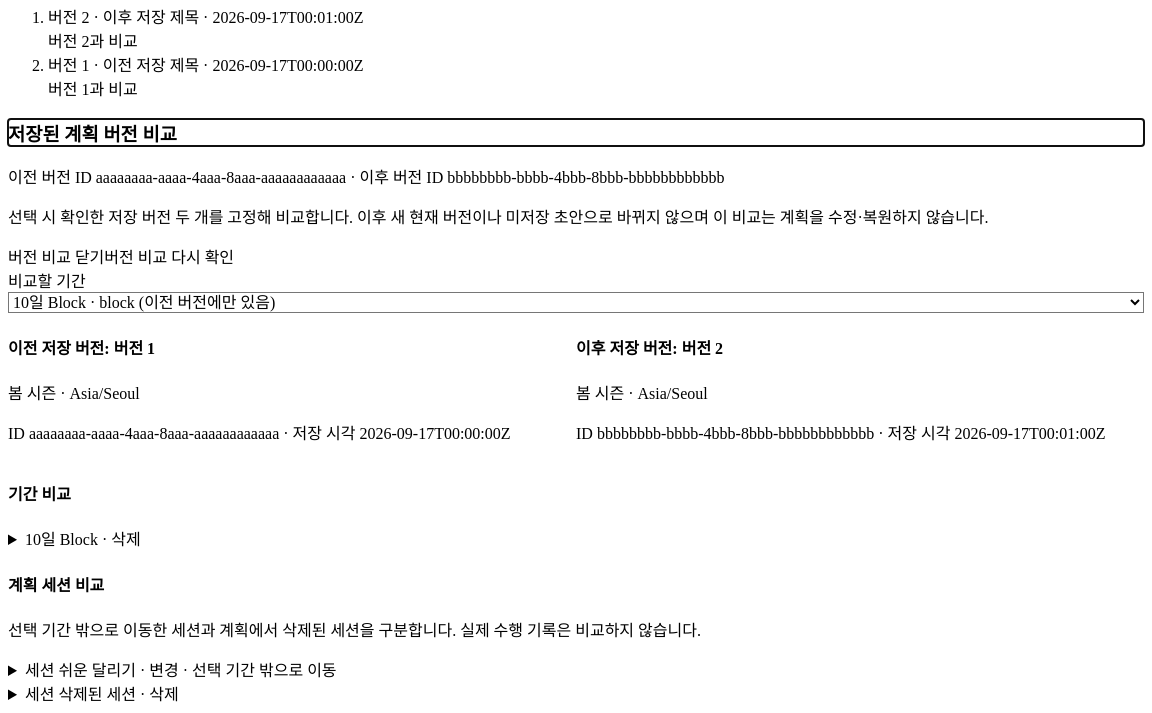
immutable saved plan comparison › offers a past-only period and distinguishes moved sessions, deleted sessions, step order and missing label fields
(page scrolled)
What coordinates should you click on to do the following:
click the heading "세션 쉬운 달리기 · 변경 · 선택 기간 밖으로 이동"
I would click on:
 (181, 670)
Its box is [25,662,337,679].
(page scrolled)
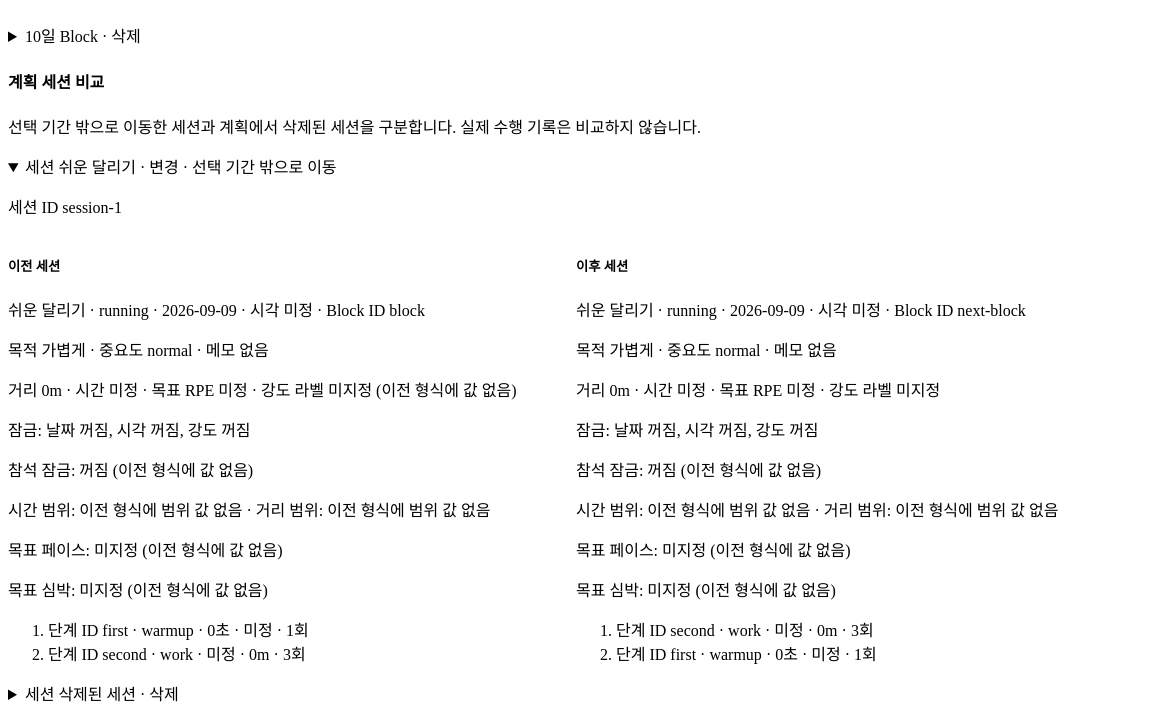
Check: the 1st list item "단계 ID first · warmup · 0초 · 미정 · 1회" is shown, box [48,622,309,639]
Check: the list item "단계 ID second · work · 미정 · 0m · 3회" below "next-block" is shown, box [616,622,874,639]
Check: the element "이전 세션" shows "강도 라벨 미지정 (이전 형식에 값 없음)", box [8,234,576,681]
